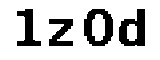0: (81, 5, 114, 48)
1: (13, 5, 44, 52)
d: (118, 6, 149, 52)
z: (46, 15, 76, 49)
